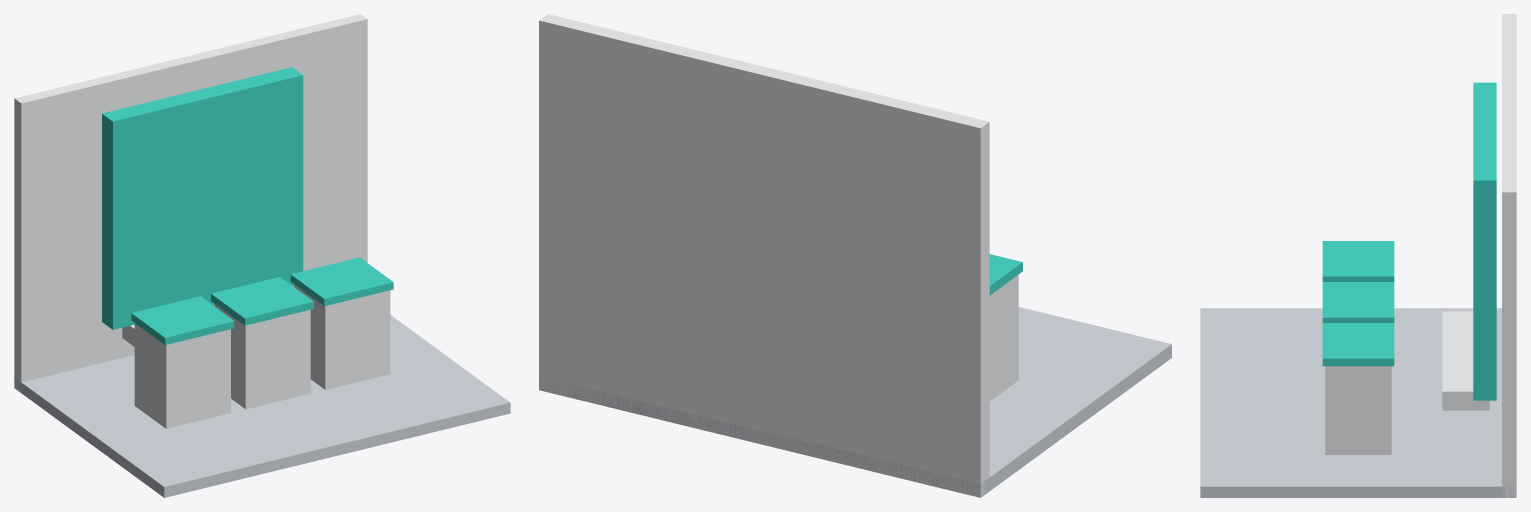
3 renders of one model, left to right at view 1: azimuth 30°, elevation 25°; view 2: azimuth 150°, elevation 25°; view 3: azimuth 270°, elevation 25°, orthographic. The views are drawn at different scales.
Parts seen in each view (by area): view 1: Exhibition Booth Concept; view 2: Exhibition Booth Concept; view 3: Exhibition Booth Concept.
Part boxes in pixels (x1,y1,x2,y2): Exhibition Booth Concept: (14, 14, 510, 497); Exhibition Booth Concept: (539, 14, 1171, 497); Exhibition Booth Concept: (1200, 14, 1516, 497).
Bounding box in the file's own units: 4 × 3.2 × 3.
